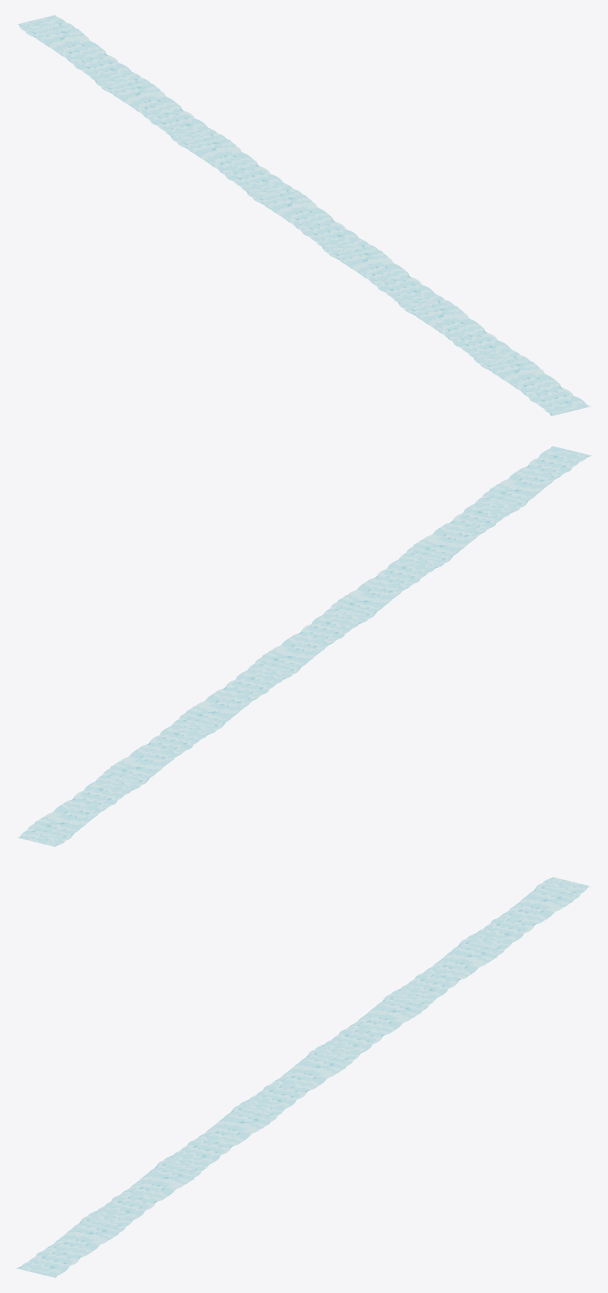
File: Mesh_Adventure_Sky_Ground_02.fbx
3 renders of one model, top to bottom at view 1: azimuth 30°, elevation 25°; view 2: azimuth 150°, elevation 25°; view 3: azimuth 330°, elevation 25°, orthographic.
Parts seen in each view (by area): view 1: Mesh_Adventure_Sky_Ground_02; view 2: Mesh_Adventure_Sky_Ground_02; view 3: Mesh_Adventure_Sky_Ground_02.
Part boxes in pixels (x1,y1,x2,y2): Mesh_Adventure_Sky_Ground_02: [18, 15, 590, 416]; Mesh_Adventure_Sky_Ground_02: [18, 446, 591, 846]; Mesh_Adventure_Sky_Ground_02: [16, 877, 589, 1277].
Size of the model in its own units: 169 by 1.78e-13 by 3500.
